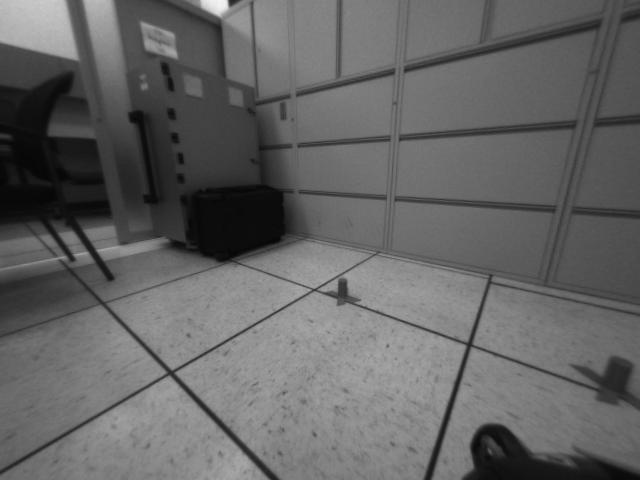X: (569, 356, 640, 410), (325, 276, 362, 305)
